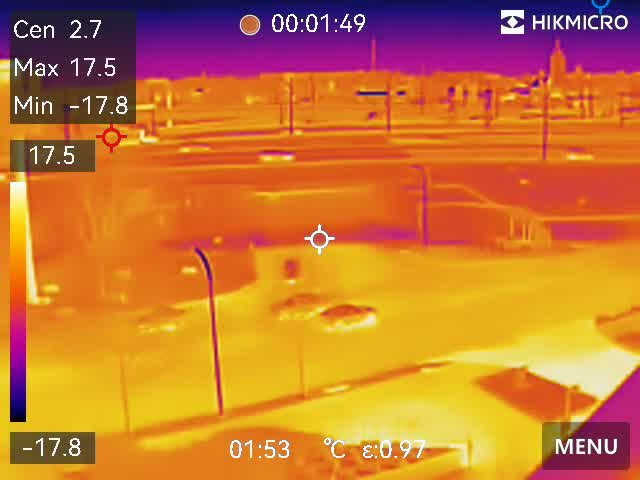smallCar: (312, 303, 378, 328), (267, 294, 328, 319), (276, 254, 302, 286)
vehicle: (129, 303, 188, 331), (560, 144, 605, 165), (259, 147, 298, 164), (177, 139, 212, 156)
